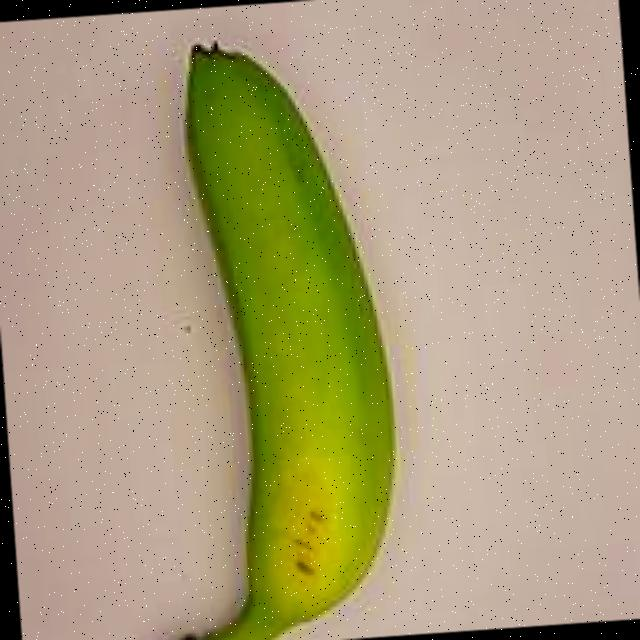Unripe: (55, 4, 438, 640)
